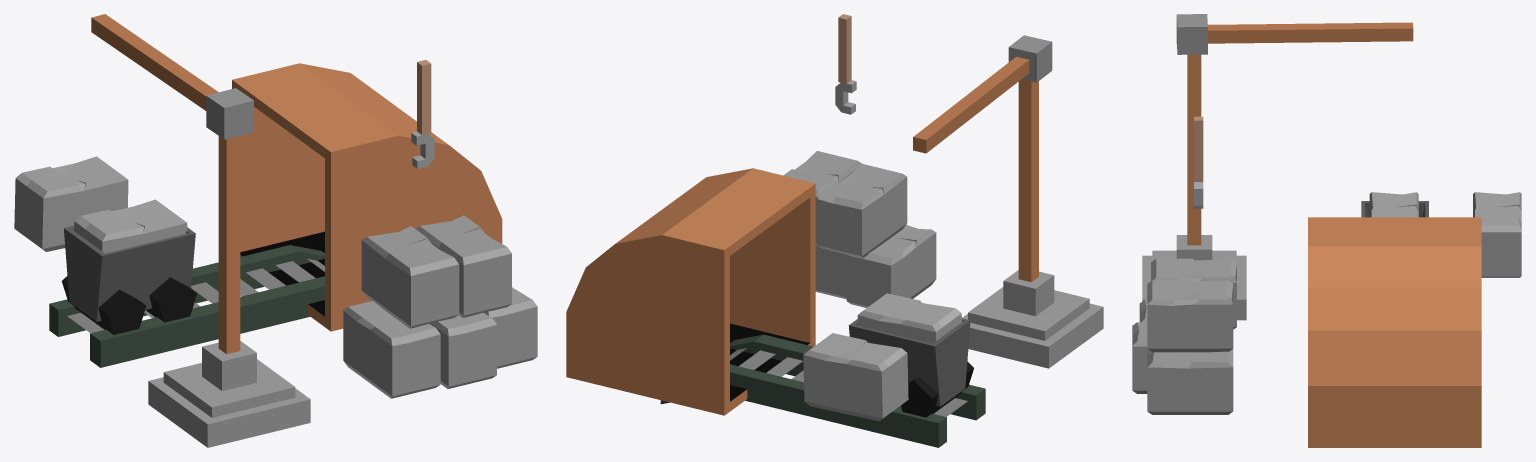
Rendered from StoneFactory.fbx.
3 views of the same model, side by side, from view 1: azimuth 30°, elevation 25°; view 2: azimuth 150°, elevation 25°; view 3: azimuth 270°, elevation 25° (orthographic). The views are drawn at different scales.
Parts seen in each view (by area): view 1: Plane.001, Cube.002, Cube, Cube.026, Cube.004, Rope, Cube.003; view 2: Plane.001, Cube, Cube.002, Cube.026, Cube.004, Rope, Cube.003; view 3: Plane.001, Cube.026, Cube, Cube.004, Rope.
Part boxes in pixels (x1=…): Plane.001: x1=49, y1=63, x2=537, y2=447; Cube.002: x1=61, y1=225, x2=196, y2=334; Cube: x1=14, y1=156, x2=128, y2=251; Cube.026: x1=91, y1=14, x2=253, y2=139; Cube.004: x1=74, y1=199, x2=187, y2=253; Rope: x1=417, y1=60, x2=431, y2=135; Cube.003: x1=411, y1=131, x2=434, y2=168; Plane.001: x1=566, y1=79, x2=1103, y2=447; Cube: x1=803, y1=333, x2=908, y2=421; Cube.002: x1=848, y1=318, x2=973, y2=417; Cube.026: x1=913, y1=35, x2=1052, y2=153; Cube.004: x1=857, y1=293, x2=961, y2=343; Rope: x1=838, y1=14, x2=851, y2=83; Cube.003: x1=835, y1=80, x2=856, y2=114; Plane.001: x1=1132, y1=54, x2=1481, y2=447; Cube.026: x1=1176, y1=14, x2=1413, y2=54; Cube: x1=1473, y1=192, x2=1521, y2=277; Cube.004: x1=1369, y1=192, x2=1418, y2=217; Rope: x1=1194, y1=116, x2=1203, y2=181.
Size of the model in its own units: 113 by 97.93 by 112.
